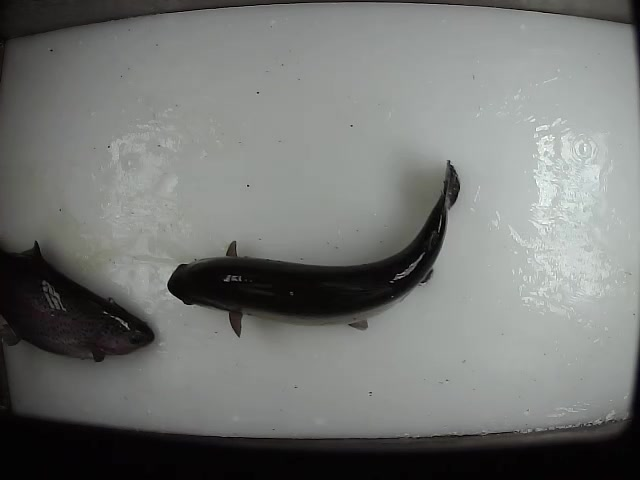fish: (166, 159, 460, 336), (1, 237, 156, 363)
